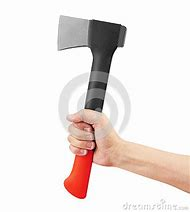axe: (56, 12, 128, 200)
